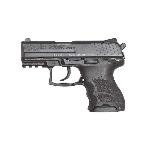Pistol: (19, 38, 127, 112)
